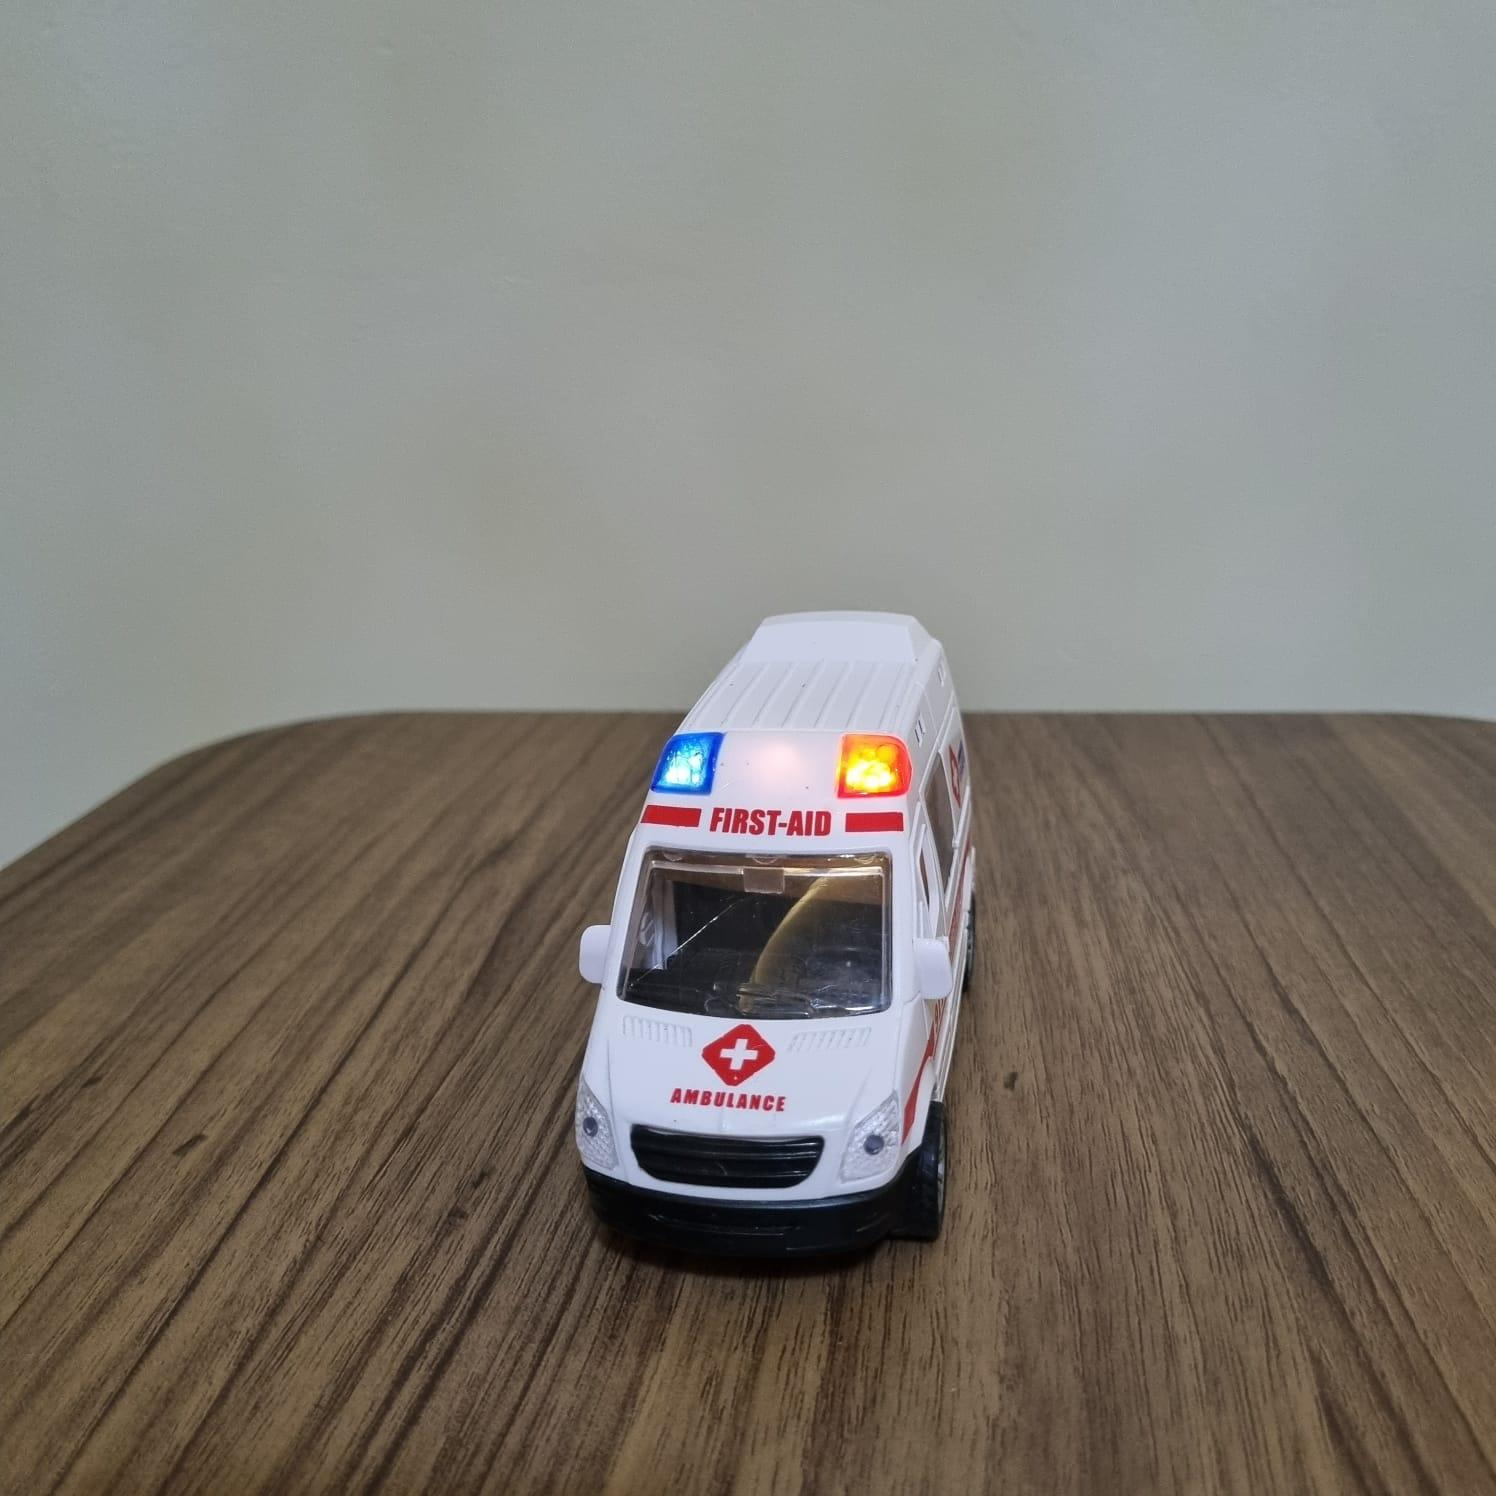ambulance_on: (578, 606, 978, 1260)
